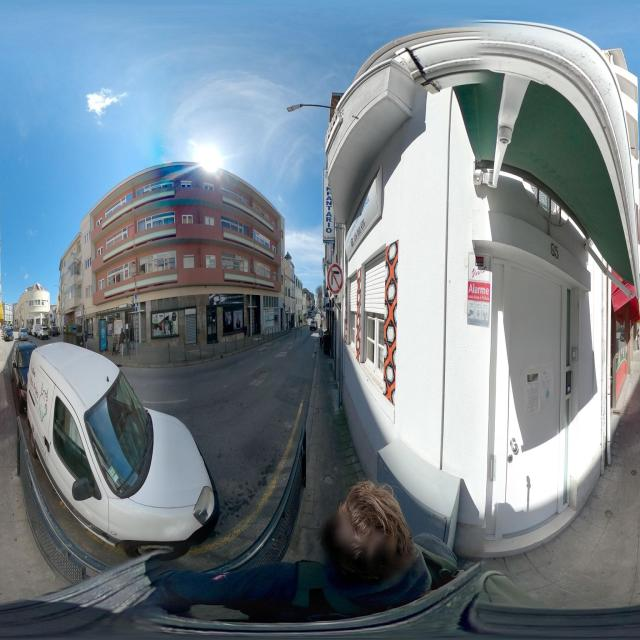forb_stopping: (63, 317, 66, 321)
